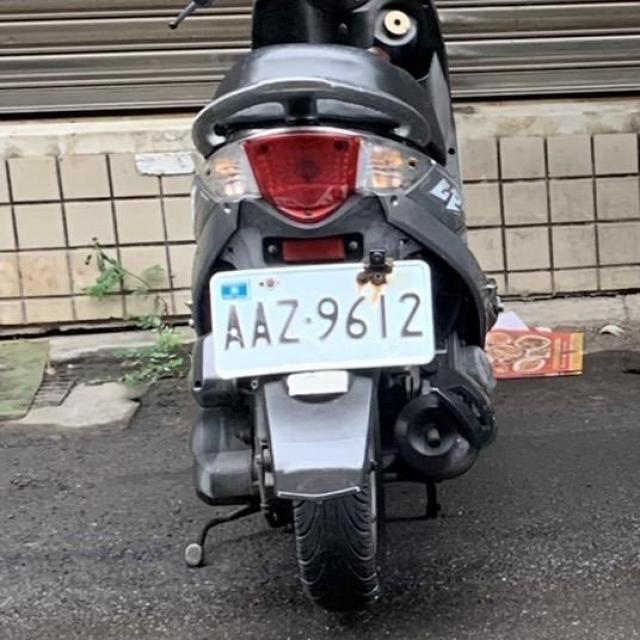W: (201, 252, 438, 381)
